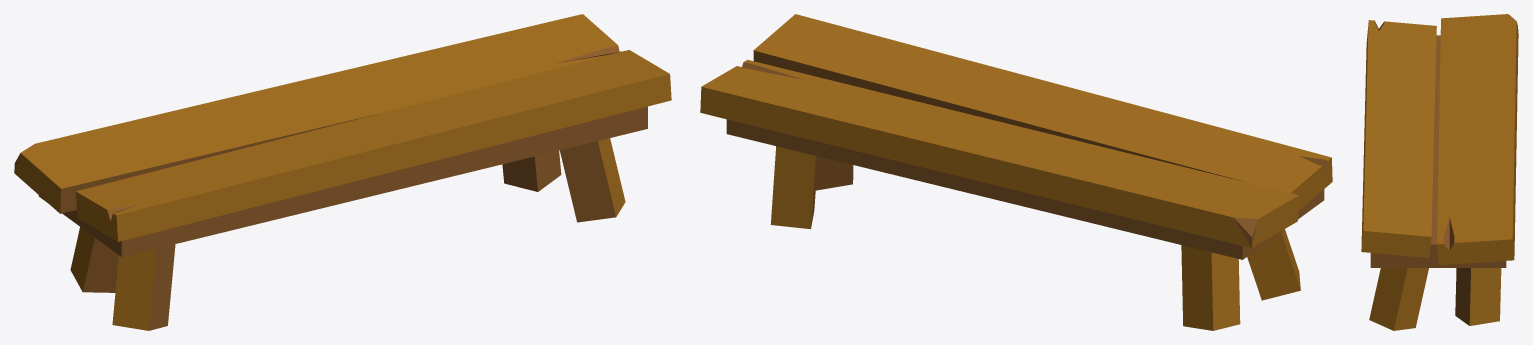
File: banco_comprido_1.fbx
3 renders of one model, left to right at view 1: azimuth 30°, elevation 25°; view 2: azimuth 150°, elevation 25°; view 3: azimuth 270°, elevation 25°, orthographic. The views are drawn at different scales.
Visible parts, largest first — view 1: banco_comprido_1; view 2: banco_comprido_1; view 3: banco_comprido_1.
Part boxes in pixels (x1,y1,x2,y2): banco_comprido_1: (14,14,671,330); banco_comprido_1: (700,14,1332,330); banco_comprido_1: (1361,14,1518,330).
Bounding box in the file's own units: 269 × 66.68 × 79.38.
